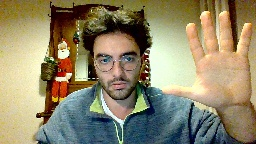Mano_aperta: (159, 7, 254, 110)
